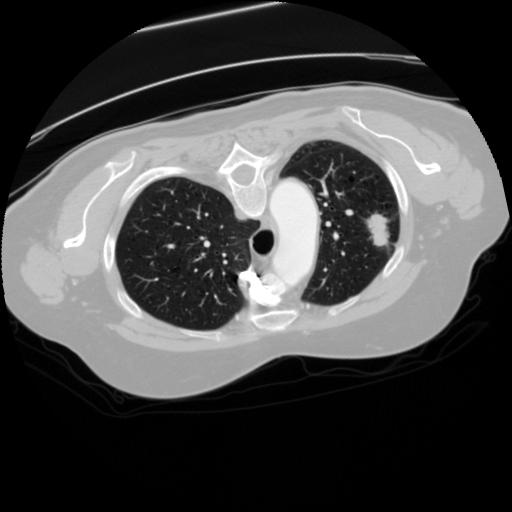nodule: (358, 211, 397, 250)
